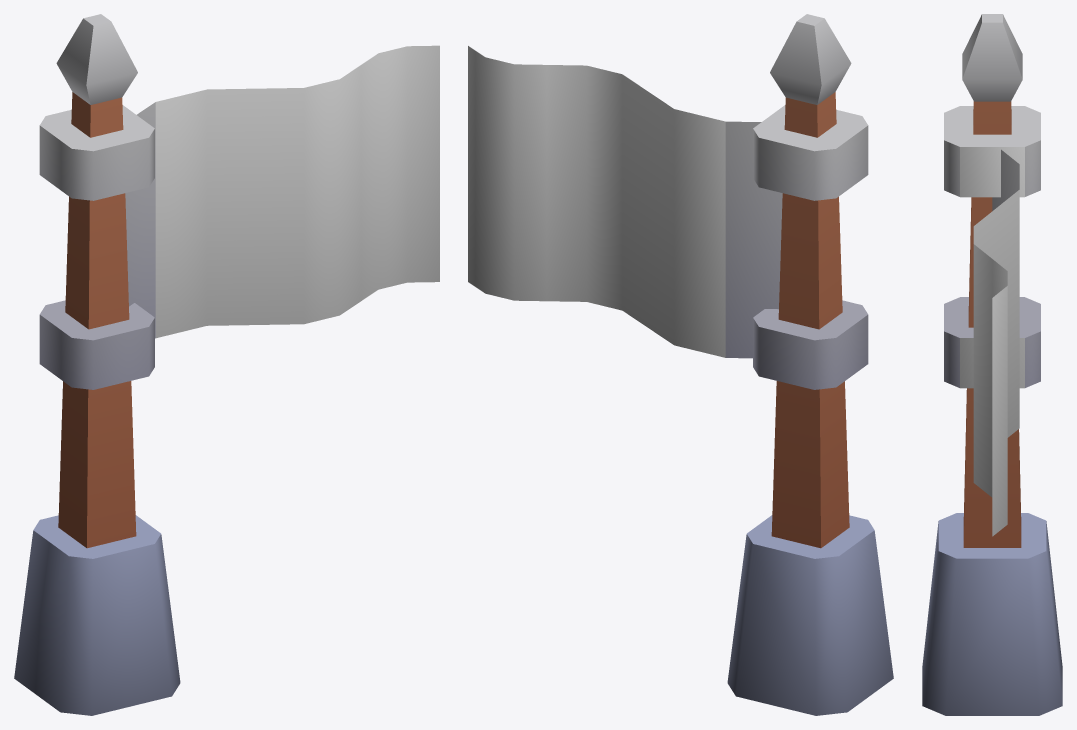
Rendered from bandeira.glb.
The picture shows the model from 3 angles, left to right: view 1: azimuth 30°, elevation 25°; view 2: azimuth 150°, elevation 25°; view 3: azimuth 270°, elevation 25°; orthographic projection.
Parts seen in each view (by area): view 1: modelo; view 2: modelo; view 3: modelo.
Part boxes in pixels (bbox=[...]): modelo: bbox=[14, 14, 439, 715]; modelo: bbox=[468, 14, 893, 715]; modelo: bbox=[922, 14, 1062, 715].
Size of the model in its own units: 1.79 by 2.8 by 0.5327.
